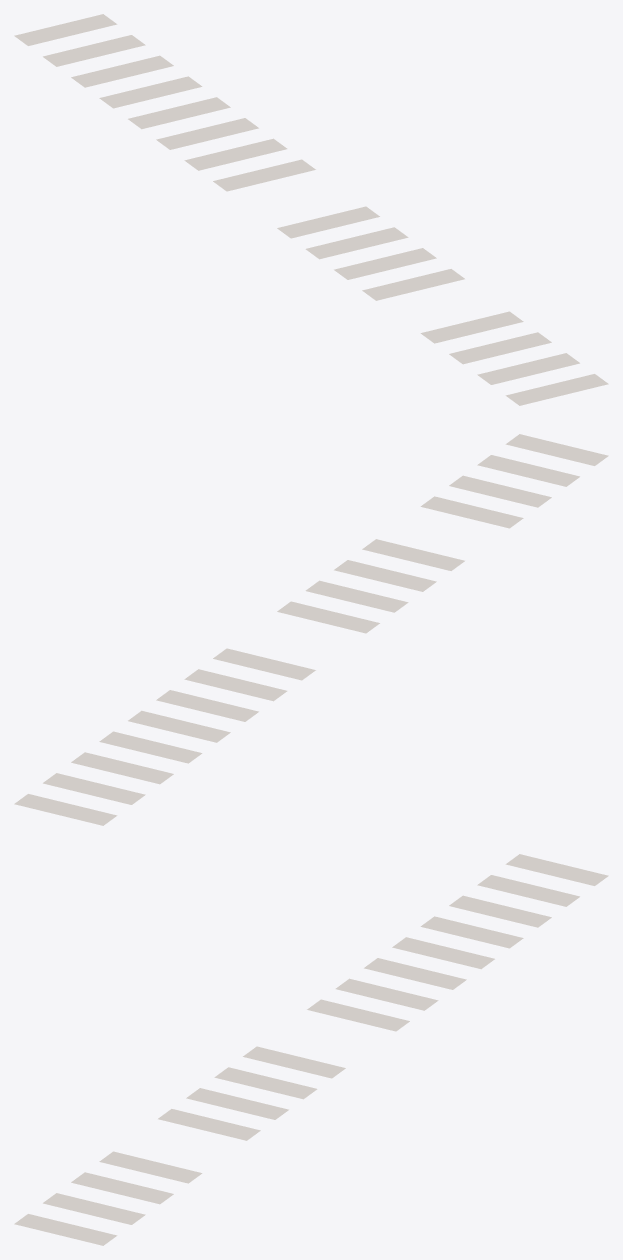
Rendered from landside_crosswalk.glb.
3 renders of one model, top to bottom at view 1: azimuth 30°, elevation 25°; view 2: azimuth 150°, elevation 25°; view 3: azimuth 330°, elevation 25°, orthographic.
Parts seen in each view (by area): view 1: Crosswalk_Stripes; view 2: Crosswalk_Stripes; view 3: Crosswalk_Stripes.
Part boxes in pixels (x1,y1,x2,y2): Crosswalk_Stripes: [14, 14, 608, 405]; Crosswalk_Stripes: [14, 434, 608, 825]; Crosswalk_Stripes: [14, 854, 608, 1245].
Size of the model in its own units: 1.6 by 0 by 15.68.
1 material, 1 textured.
